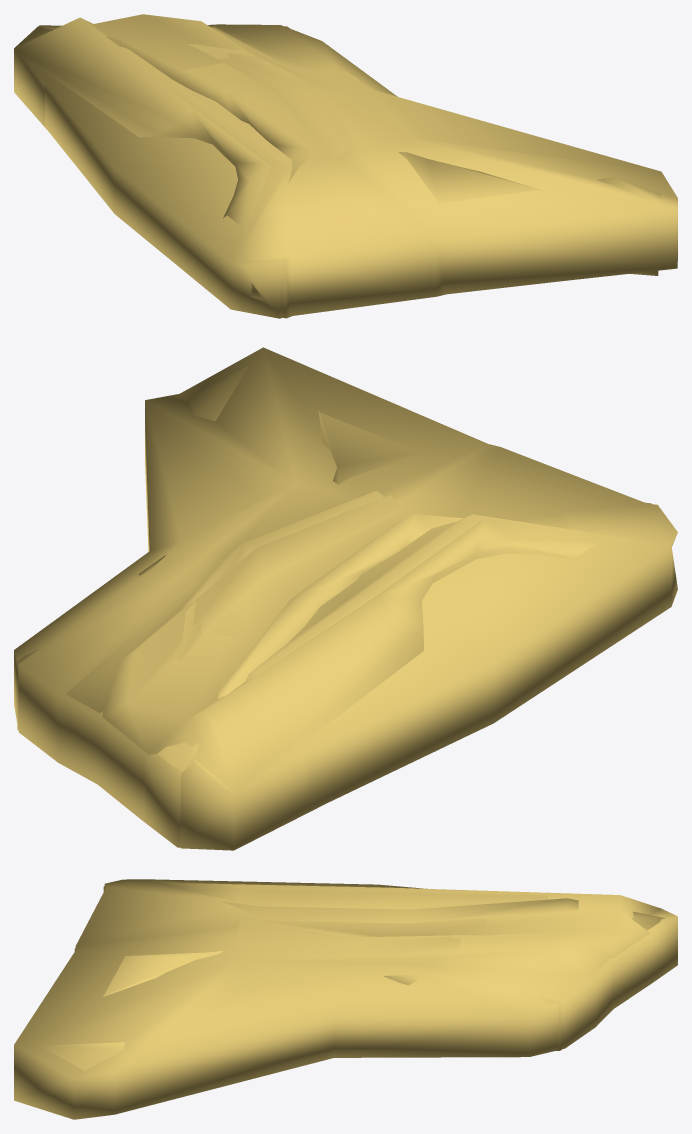
Rendered from Steak.fbx.
3 renders of one model, top to bottom at view 1: azimuth 30°, elevation 25°; view 2: azimuth 150°, elevation 25°; view 3: azimuth 270°, elevation 25°, orthographic. The views are drawn at different scales.
Parts seen in each view (by area): view 1: Steak4/4, Steak3/4, Steak1/4, Steak2/4; view 2: Steak4/4, Steak3/4, Steak1/4, Steak2/4; view 3: Steak4/4, Steak3/4, Steak2/4, Steak1/4.
Boxes of the visible parts, x1,y1,x2,y2 form: Steak4/4: (28,24,677,318); Steak3/4: (14,14,462,318); Steak1/4: (49,29,658,318); Steak2/4: (125,48,660,238); Steak4/4: (14,347,677,847); Steak3/4: (17,495,651,850); Steak1/4: (158,410,462,772); Steak2/4: (138,365,472,674); Steak4/4: (14,879,677,1119); Steak3/4: (74,882,676,1050); Steak2/4: (40,884,541,1070); Steak1/4: (102,898,665,997).
Bounding box in the file's own units: 12.11 × 2.63 × 17.71.
